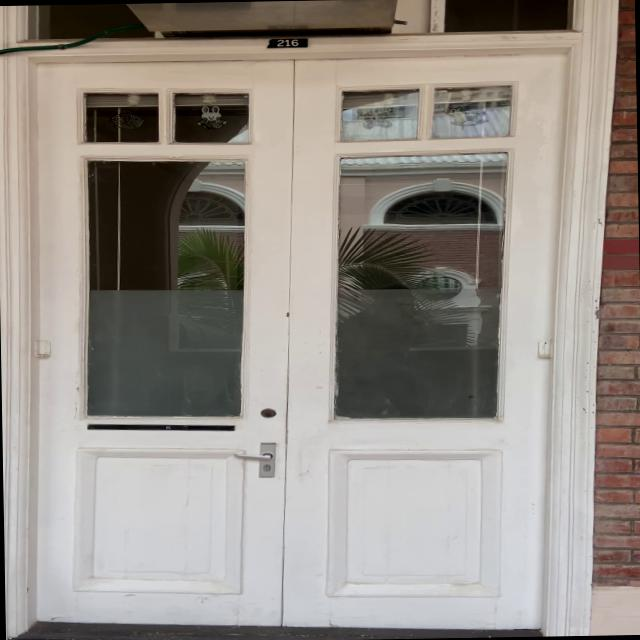room216: (258, 34, 310, 51)
